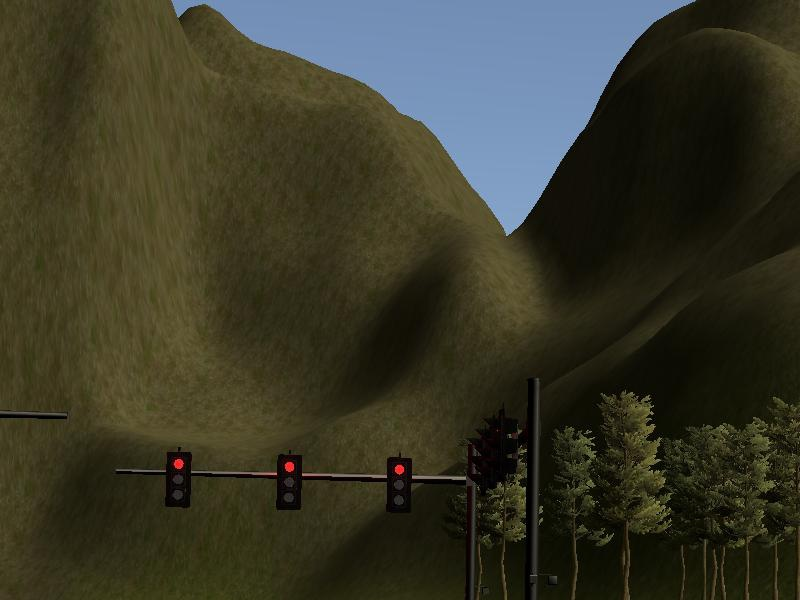Red: (164, 449, 192, 508), (274, 453, 302, 512), (384, 455, 412, 514)
